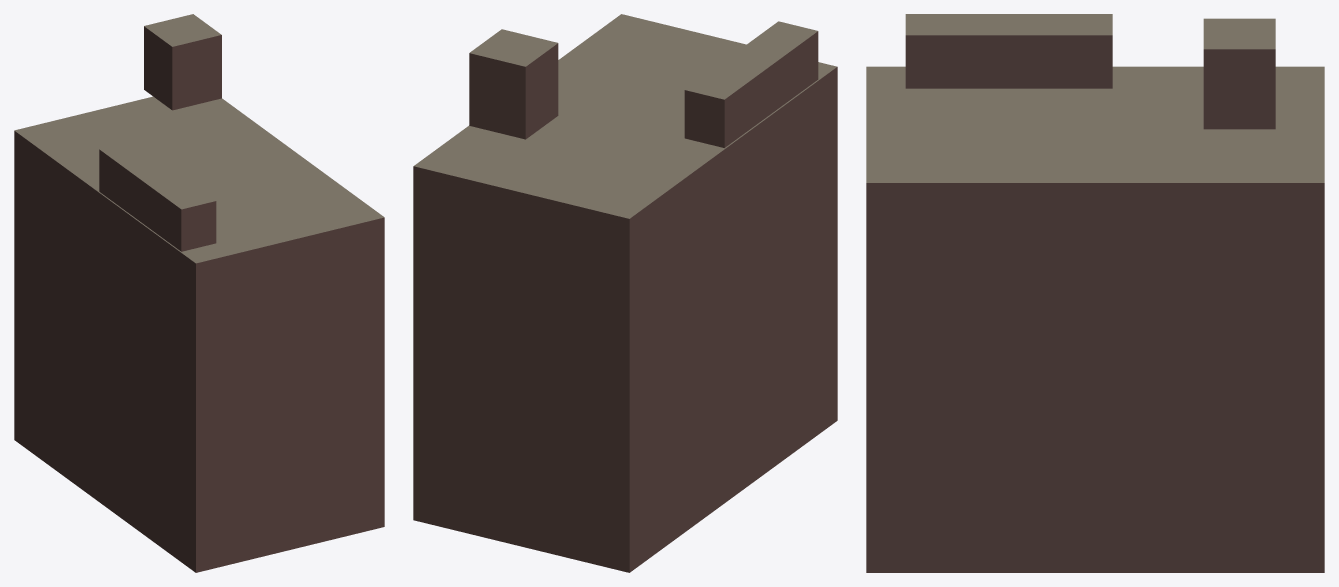
Rendered from mh-tenement.far-facades-v3.lod2.glb.
3 renders of one model, left to right at view 1: azimuth 30°, elevation 25°; view 2: azimuth 150°, elevation 25°; view 3: azimuth 270°, elevation 25°, orthographic. The views are drawn at different scales.
Parts seen in each view (by area): view 1: mh-tenement; view 2: mh-tenement; view 3: mh-tenement.
Part boxes in pixels (bbox=[...]): mh-tenement: bbox=[14, 14, 384, 572]; mh-tenement: bbox=[413, 14, 837, 572]; mh-tenement: bbox=[866, 14, 1324, 572].
Size of the model in its own units: 8.4 by 17.05 by 14.
